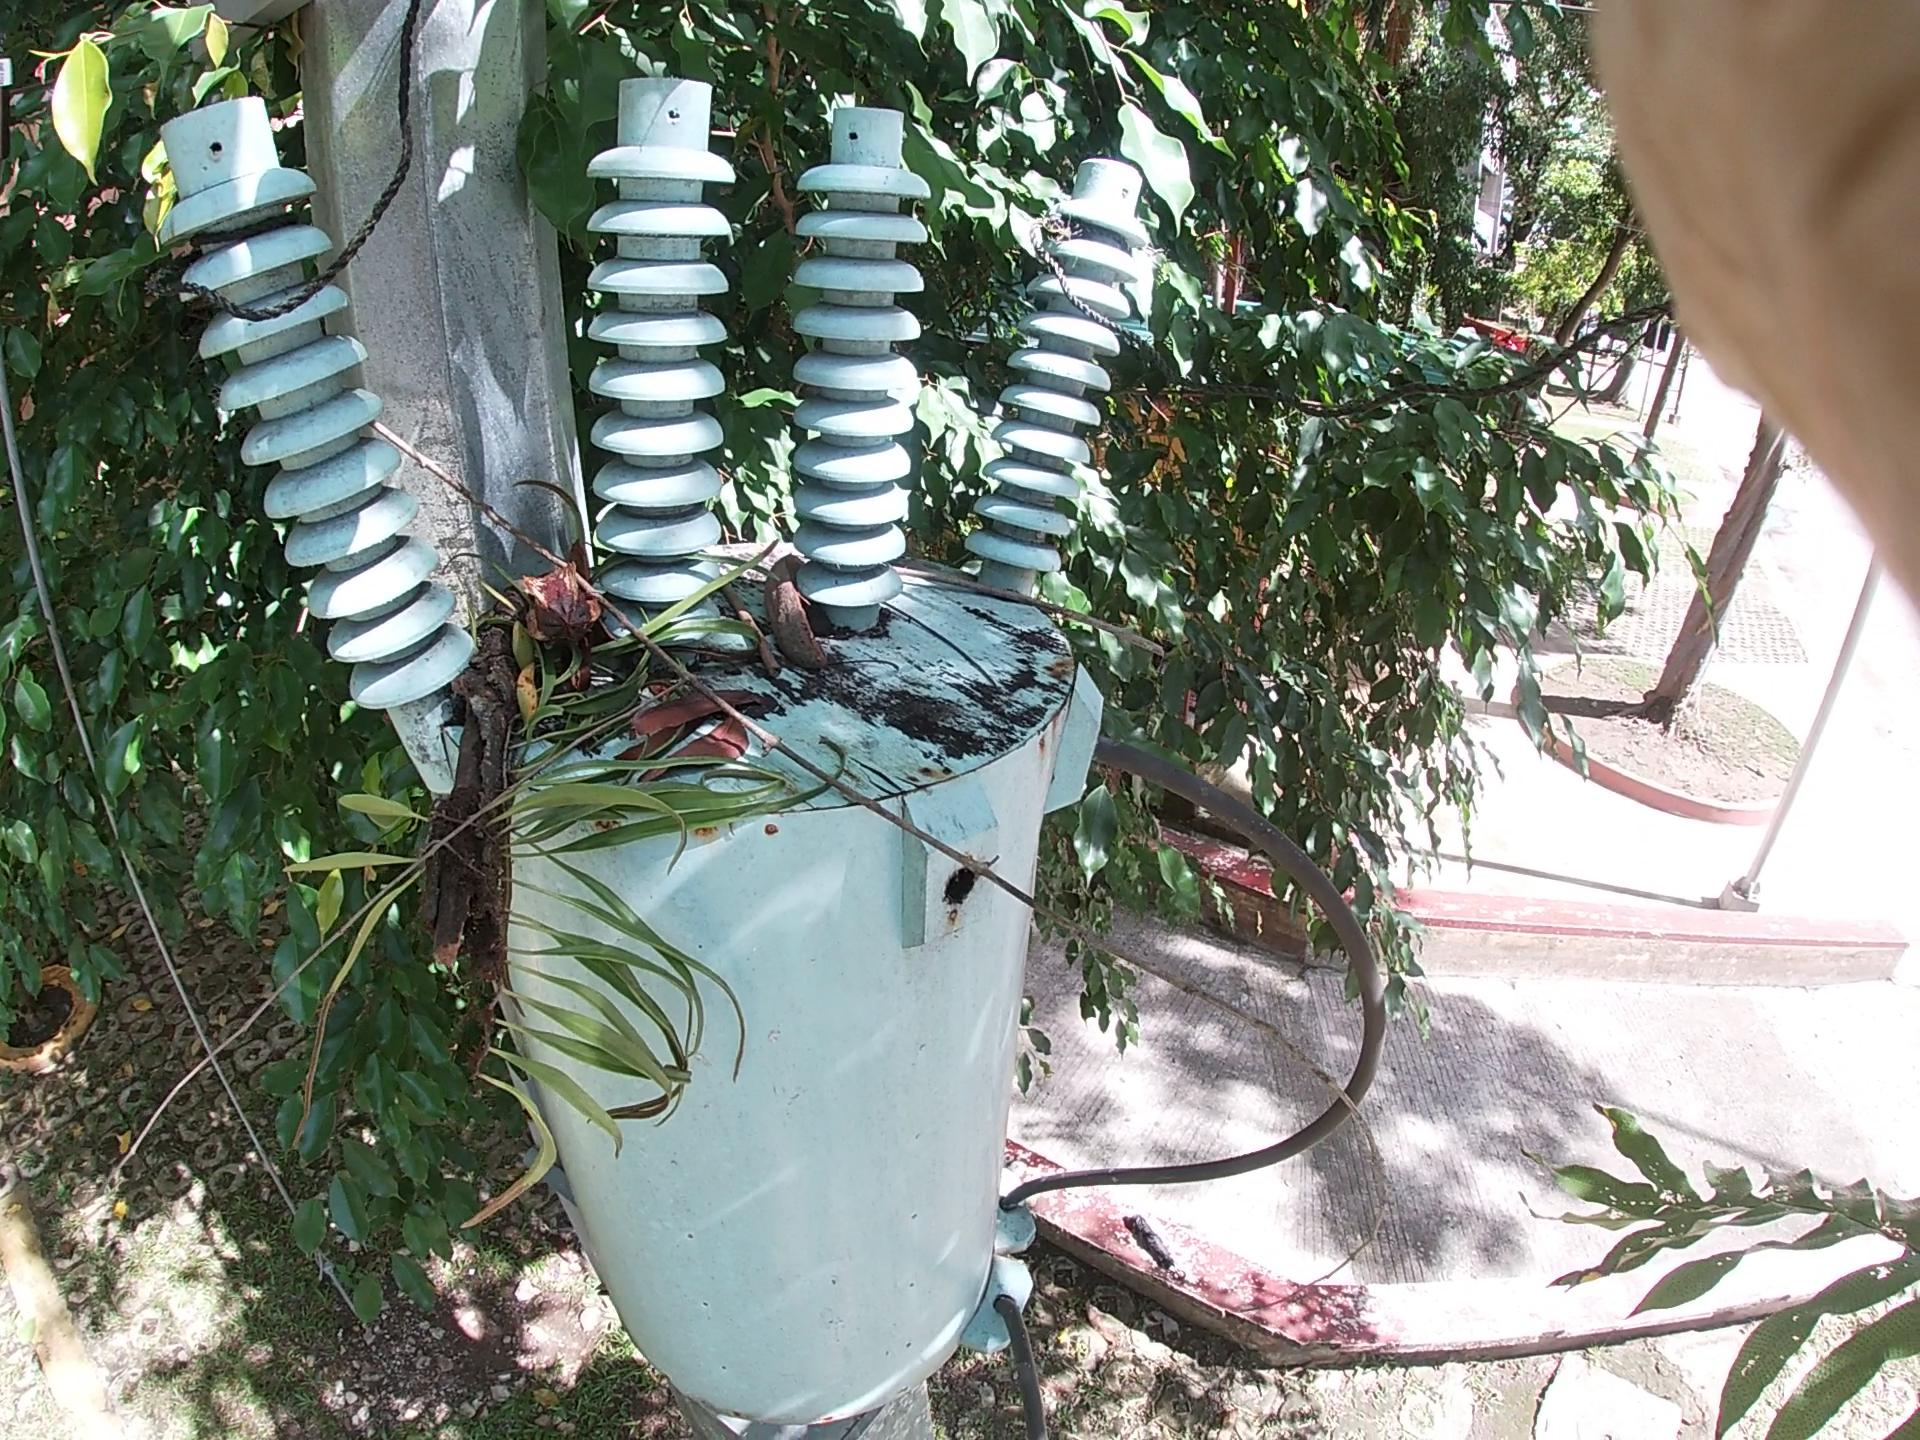branch with leaves: (390, 422, 763, 1175)
leaf: (262, 11, 1417, 489)
mahogany fruit: (723, 522, 910, 720), (481, 523, 683, 663)
tree branch: (352, 414, 1303, 1066), (838, 557, 1219, 644), (679, 464, 785, 703)
